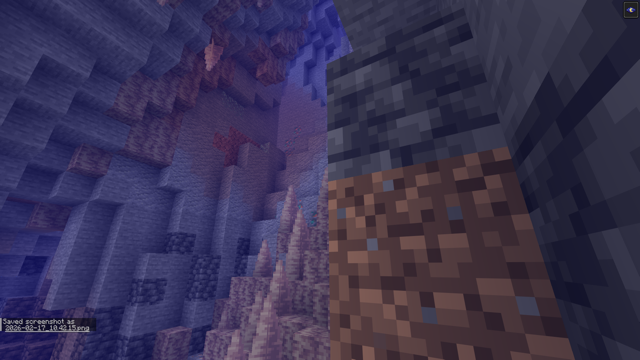copper: (283, 123, 306, 157)
